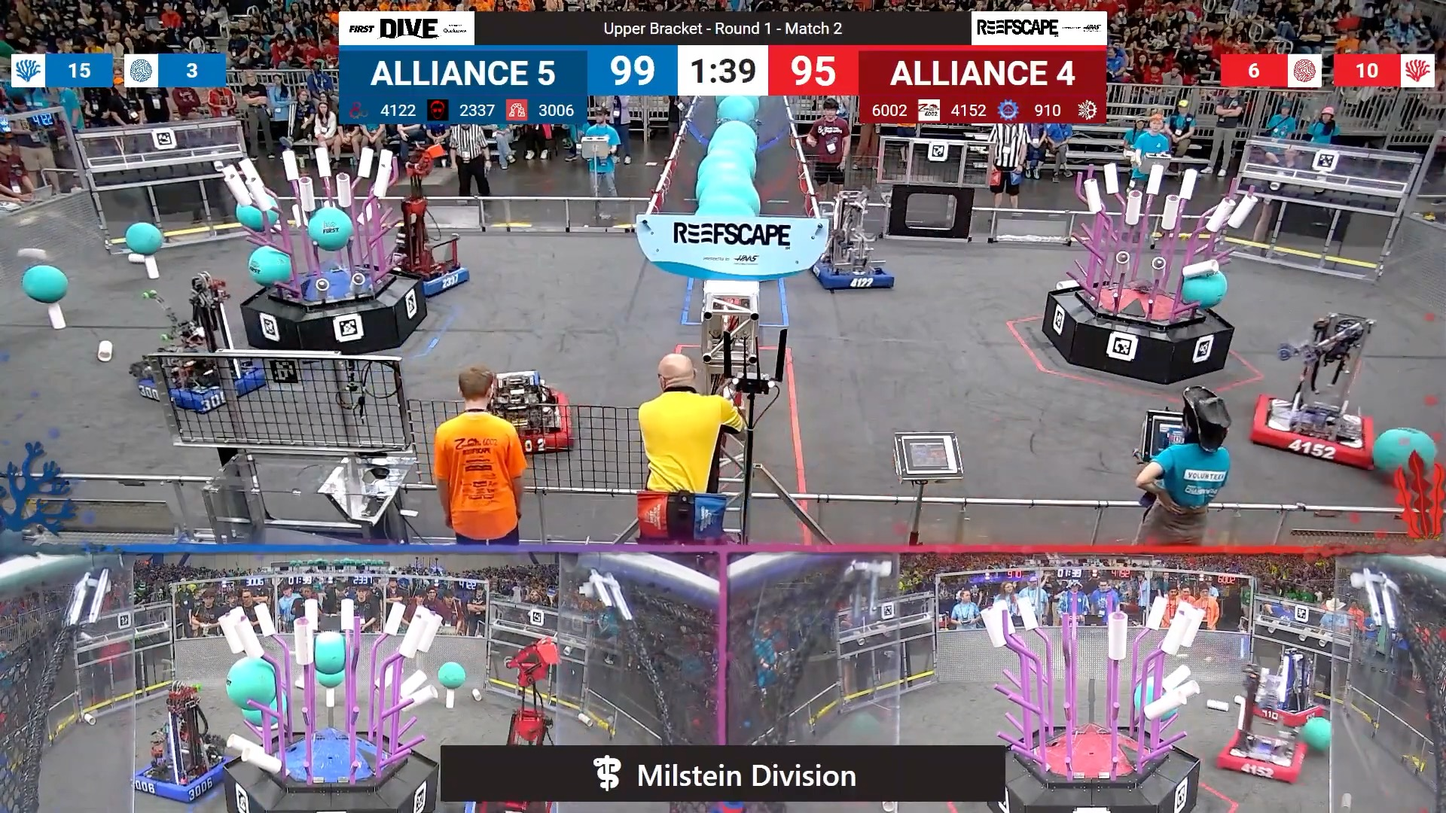bumpers: (1242, 392, 1379, 470), (131, 358, 274, 413), (127, 748, 236, 806), (1212, 726, 1311, 787), (801, 251, 900, 294), (503, 403, 581, 457), (389, 260, 476, 298), (1247, 692, 1332, 730)
